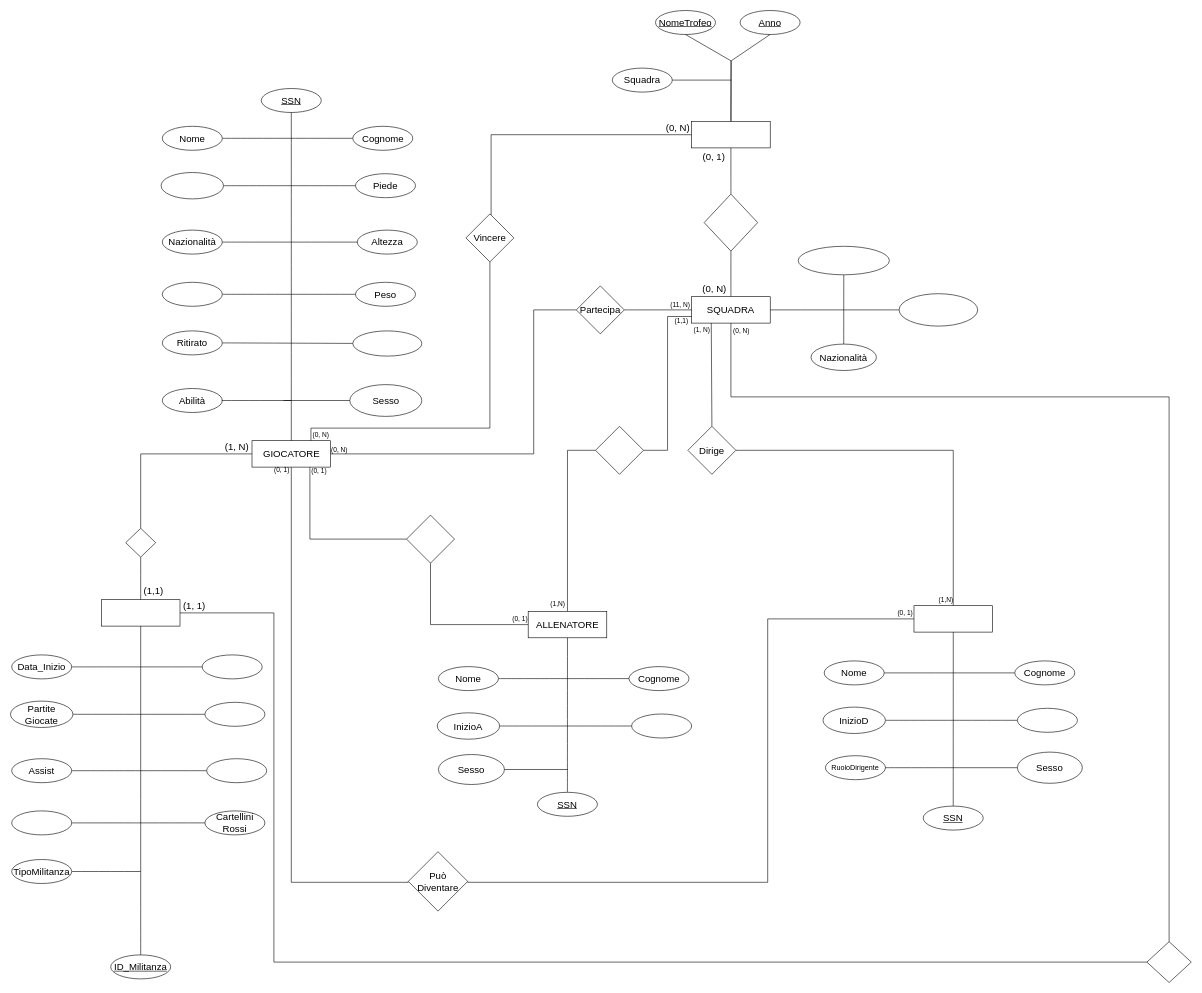
This 1202x993 diagram has some shape labels left out. The box of each missing label's shape, as (x1, y1, x2, y2) in pixels:
Allena: (595, 426, 644, 474)
Cartellini Gialli: (11, 810, 72, 835)
Data di Nascita: (160, 172, 224, 199)
Data_Fine: (202, 654, 262, 679)
Data_Fondazione: (798, 246, 889, 275)
DIRIGENTE: (913, 605, 993, 632)
FineA: (631, 713, 692, 738)
FineD: (1017, 708, 1077, 732)
Goal Segnati: (204, 702, 265, 726)
Goal Subiti: (206, 758, 267, 783)
Ha: (125, 528, 156, 557)
MILITANZA: (101, 599, 180, 626)
NomeSquadra: (898, 293, 978, 326)
Ottenuto da: (704, 194, 758, 251)
Può essere: (406, 514, 454, 563)
Riferisce: (1146, 941, 1191, 982)
Ruolo: (162, 282, 222, 306)
TipoGiocatore: (352, 330, 422, 356)
TROFEO: (691, 121, 770, 148)
